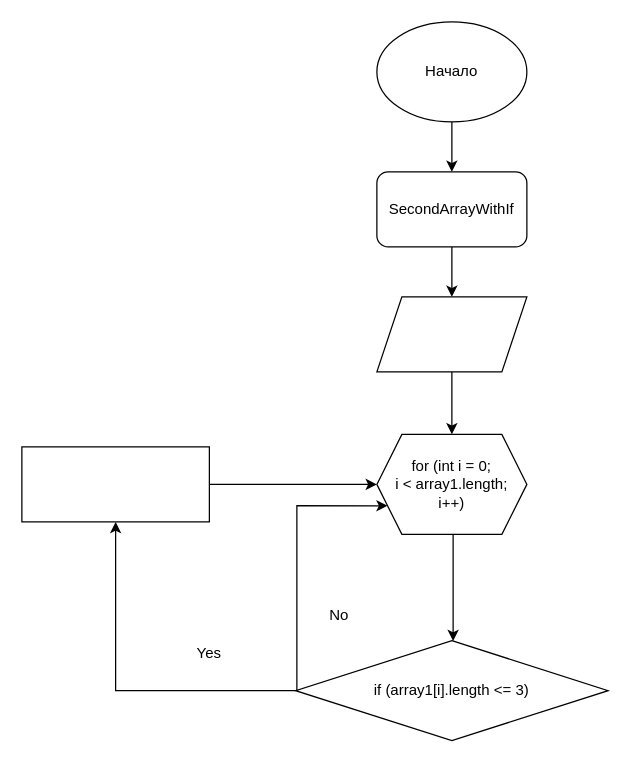
Image size: 630x763. Some labels were removed from this diagram. Each missing label, with the centre of its shape:
array2[count] = array1[i]; count++;: [115,484]
string[] array1 string array2 int count = 0: [451,334]
